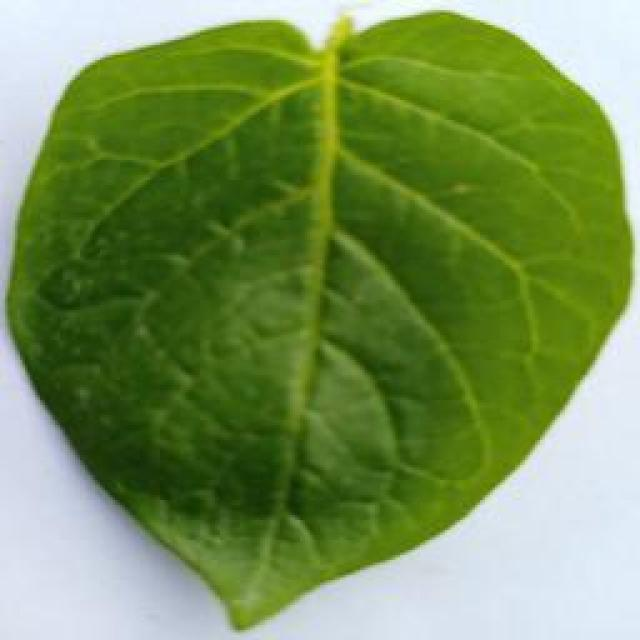Potato_Healthy: (7, 11, 634, 635)
